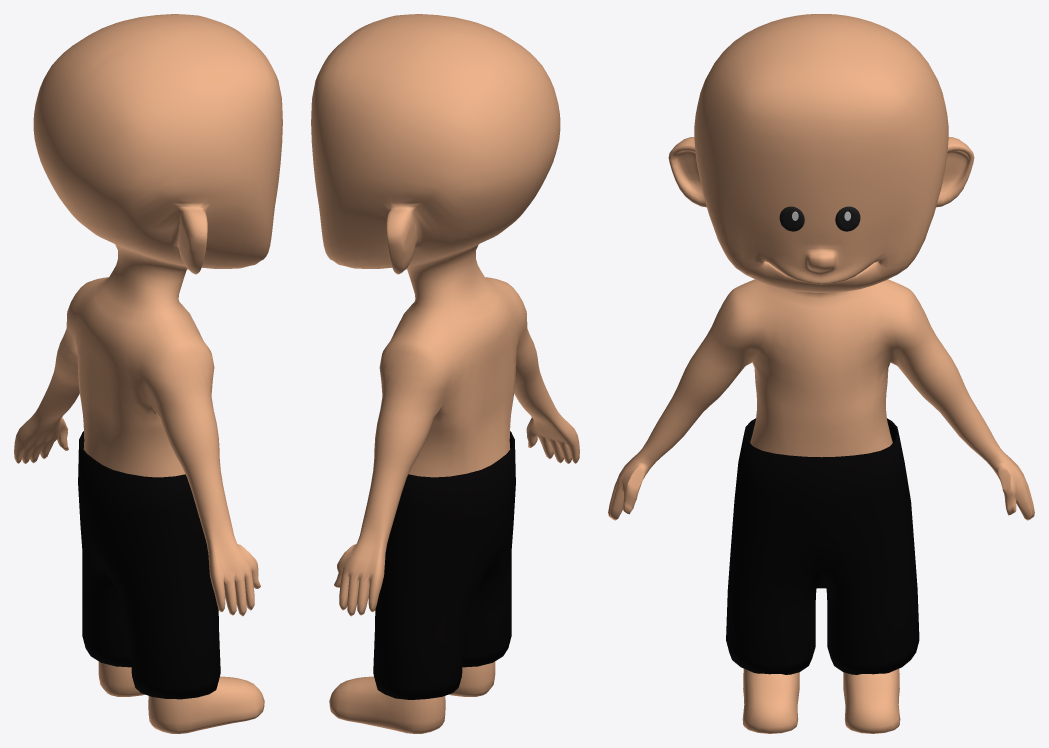
The model's file is nobitaWhite.glb.
3 views of the same model, side by side, from view 1: azimuth 30°, elevation 25°; view 2: azimuth 150°, elevation 25°; view 3: azimuth 270°, elevation 25° (orthographic).
Parts seen in each view (by area): view 1: Body, Pants; view 2: Body, Pants; view 3: Body, Pants, eye black.
Part boxes in pixels (x1=…): Body: x1=14, y1=14, x2=282, y2=733; Pants: x1=78, y1=431, x2=220, y2=699; Body: x1=311, y1=14, x2=579, y2=733; Pants: x1=373, y1=431, x2=515, y2=699; Body: x1=608, y1=14, x2=1034, y2=733; Pants: x1=726, y1=418, x2=919, y2=674; eye black: x1=779, y1=206, x2=860, y2=231.
Bounding box in the file's own units: 1.04 × 3.19 × 1.83.
